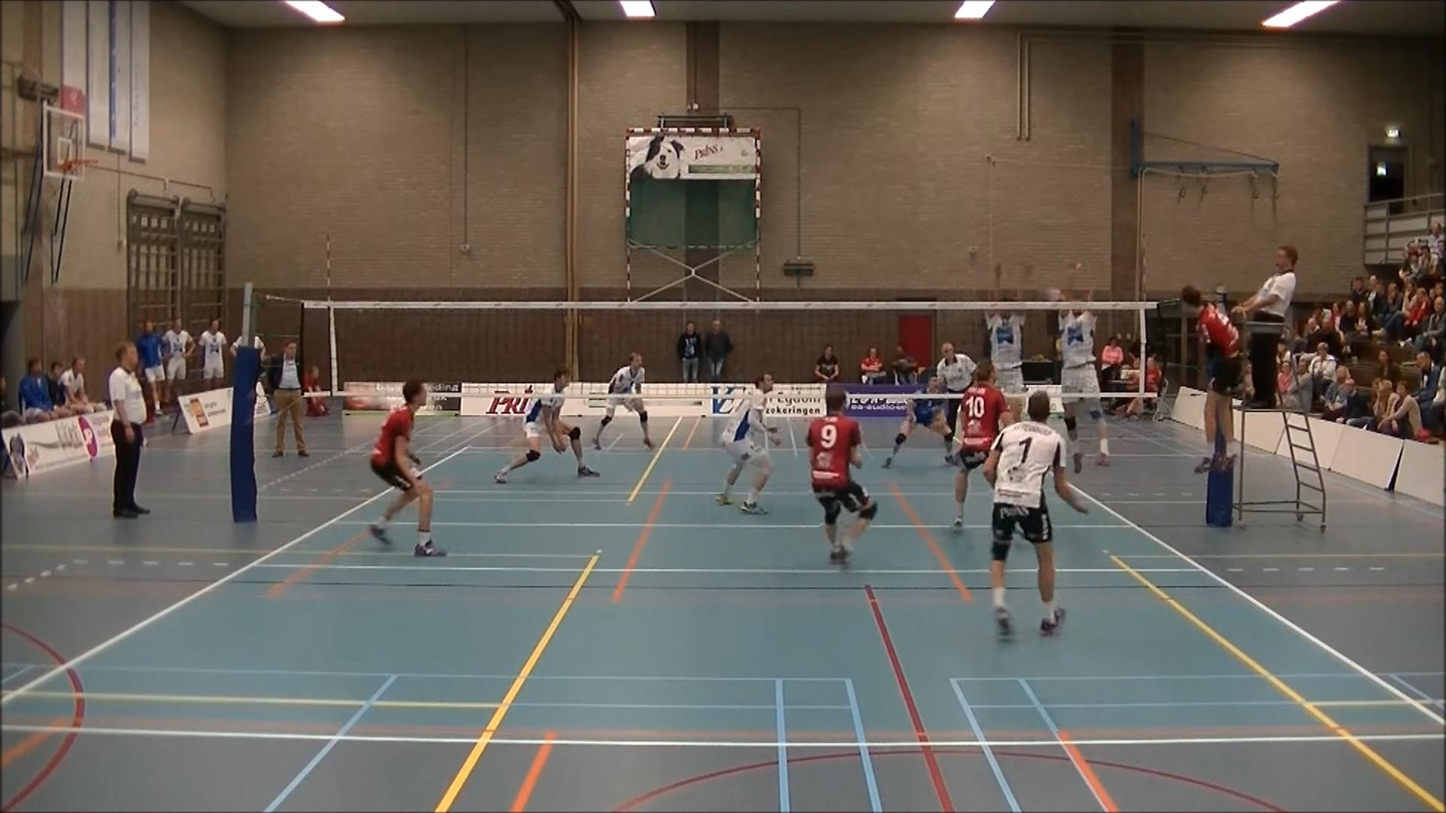Attack: (1170, 275, 1251, 472)
Block: (1044, 261, 1123, 472), (972, 256, 1031, 426)
Player: (984, 391, 1088, 635), (370, 380, 445, 556), (807, 388, 877, 563), (494, 368, 598, 483), (952, 361, 1011, 531), (716, 373, 779, 514), (883, 376, 950, 468), (593, 352, 652, 449)
